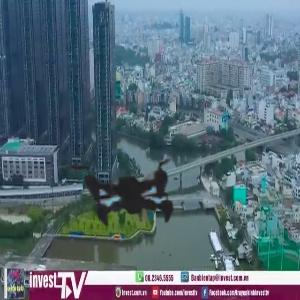drone: (19, 77, 242, 300)
